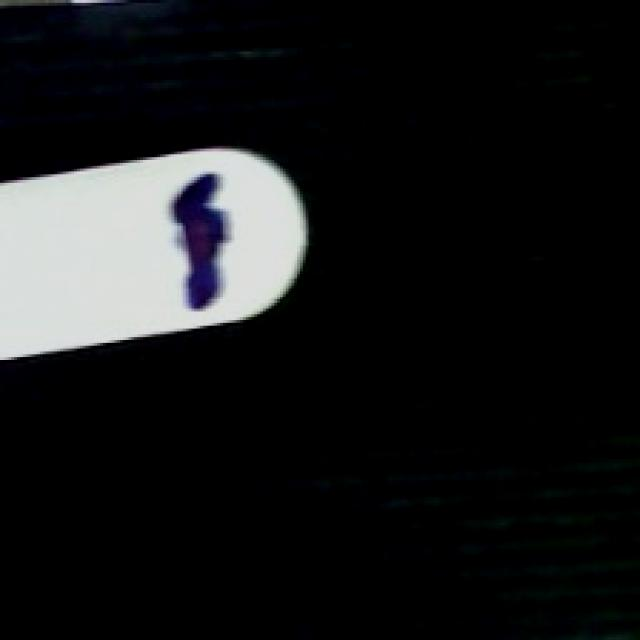defected: (0, 146, 317, 363)
